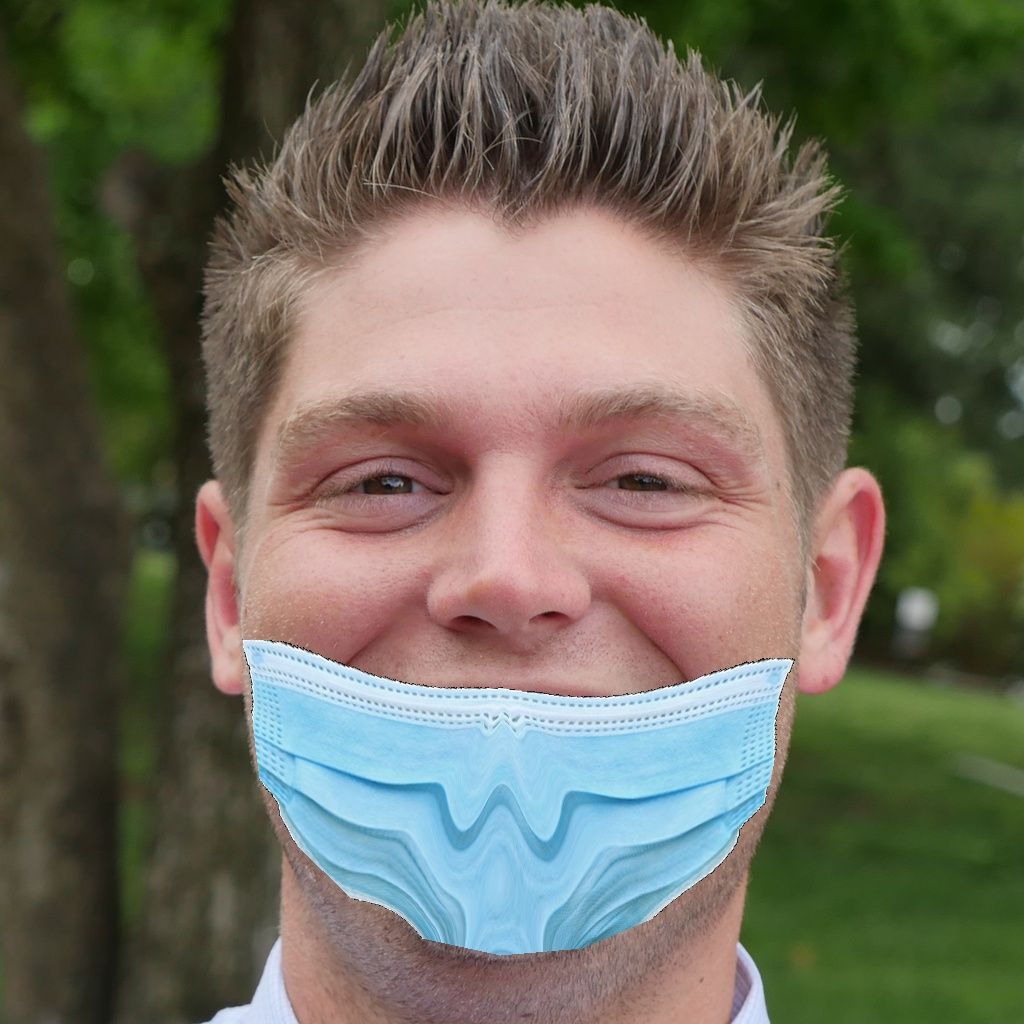mascarilla_mal_puesta: (209, 370, 832, 973)
